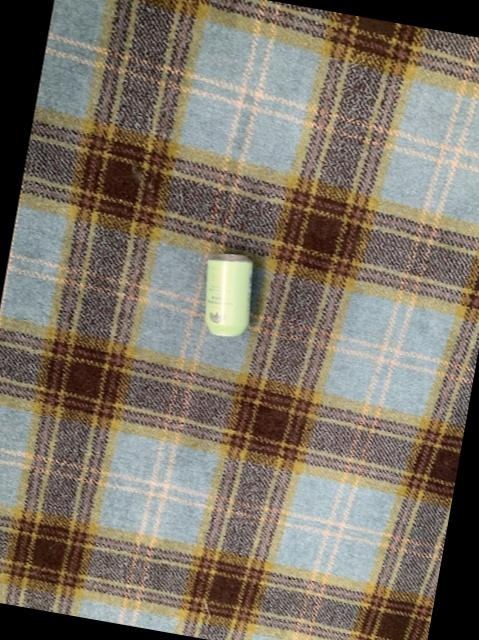metal: (205, 255, 252, 337)
